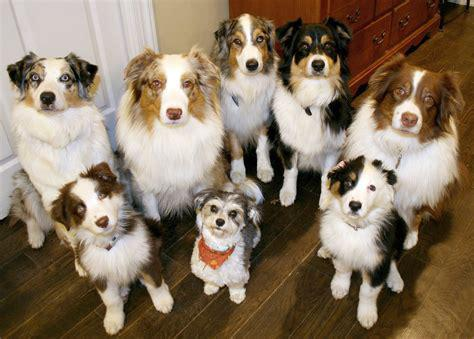dog: (6, 54, 118, 248), (347, 58, 460, 248), (50, 162, 173, 334), (117, 49, 223, 220), (319, 156, 404, 328), (275, 19, 350, 208), (214, 14, 276, 181), (191, 180, 261, 303)
